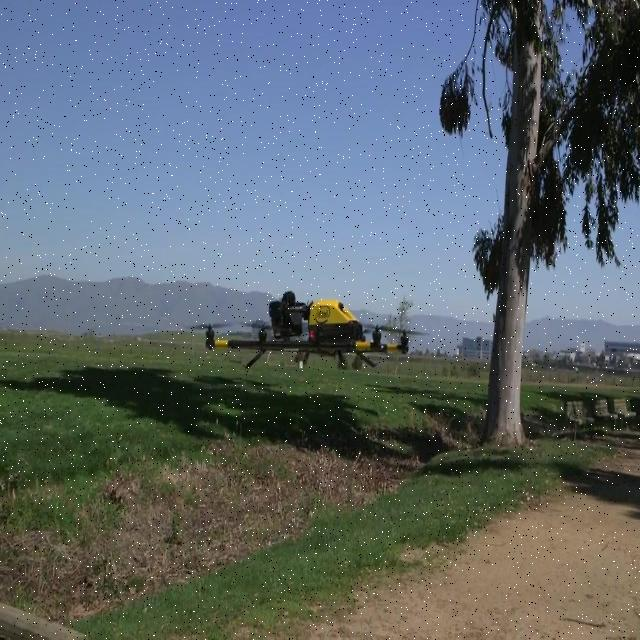UAV: (189, 292, 429, 369)
